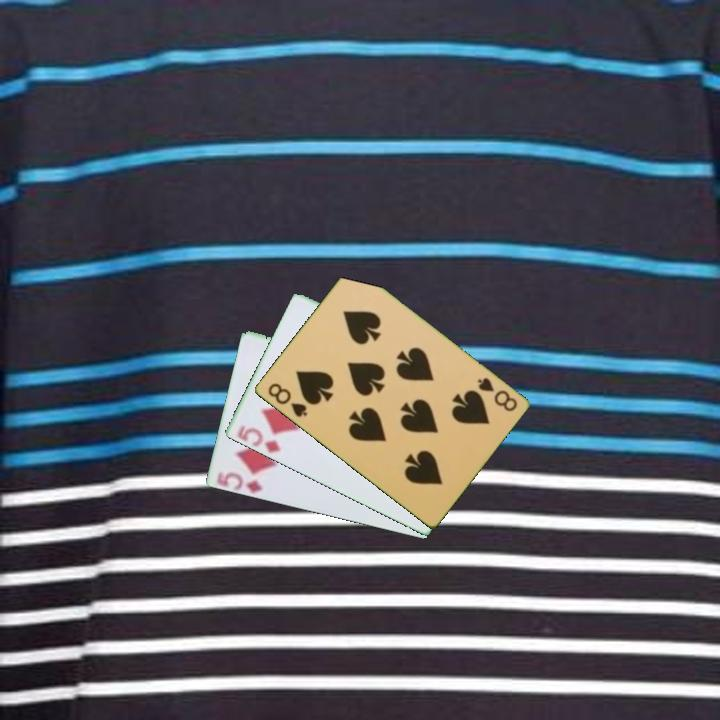5d: (234, 422, 283, 456), (215, 469, 266, 496)
8s: (473, 374, 520, 415), (264, 379, 310, 420)
